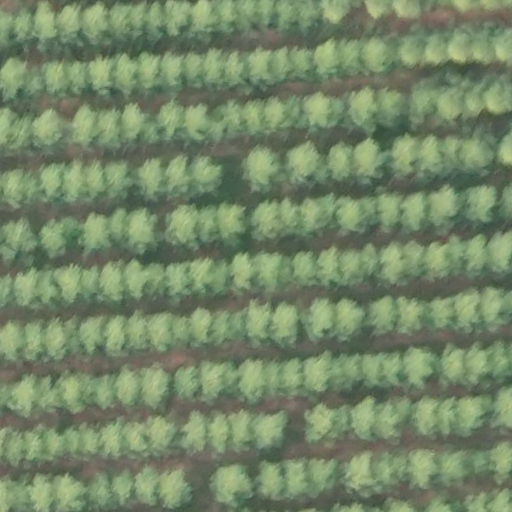eucalipto: (282, 139, 327, 188), (240, 143, 283, 191), (209, 462, 253, 507), (389, 133, 423, 183), (123, 209, 158, 257), (352, 140, 389, 183), (1, 166, 36, 211), (157, 469, 195, 509), (418, 133, 447, 185), (461, 133, 495, 177), (254, 410, 291, 450), (1, 218, 36, 260), (164, 203, 195, 250), (81, 1, 112, 47), (165, 153, 196, 198), (463, 182, 495, 225), (429, 188, 461, 231), (403, 348, 436, 389), (438, 134, 468, 179), (456, 285, 483, 335), (334, 298, 365, 341), (39, 160, 67, 207), (78, 211, 110, 252), (326, 141, 357, 183), (31, 109, 65, 147), (135, 464, 165, 507), (250, 201, 282, 241), (191, 154, 222, 195), (63, 160, 91, 205), (415, 395, 444, 438), (136, 156, 164, 200), (141, 365, 169, 409), (218, 201, 248, 242), (336, 199, 371, 234), (55, 263, 84, 305), (362, 37, 394, 75), (301, 197, 333, 235), (316, 245, 343, 290), (274, 302, 301, 347), (54, 473, 85, 512), (350, 397, 378, 440), (104, 161, 135, 199), (483, 287, 509, 332), (189, 1, 215, 45), (401, 192, 428, 234), (148, 415, 175, 457), (409, 447, 436, 489), (239, 359, 264, 404), (63, 373, 91, 413), (438, 397, 466, 437), (249, 47, 275, 90), (396, 297, 425, 335), (183, 411, 208, 455), (137, 52, 165, 91), (40, 220, 68, 259), (486, 233, 512, 275), (143, 262, 171, 301), (122, 260, 148, 302), (115, 363, 141, 405), (258, 460, 284, 502), (34, 2, 58, 47), (350, 87, 377, 127), (99, 259, 123, 304), (14, 269, 41, 309), (86, 472, 113, 512), (1, 476, 31, 512), (106, 1, 131, 44), (369, 294, 395, 335), (11, 376, 37, 417), (423, 242, 449, 282), (165, 261, 191, 301), (337, 250, 365, 287), (198, 358, 221, 403), (381, 400, 405, 443), (458, 396, 483, 437), (436, 454, 470, 484), (91, 374, 120, 409), (90, 56, 116, 95), (232, 250, 258, 289), (309, 297, 335, 336), (303, 402, 329, 441), (283, 460, 309, 499), (191, 307, 213, 353), (148, 310, 171, 354), (72, 105, 96, 147), (401, 241, 426, 281), (357, 241, 382, 281), (163, 1, 190, 38), (182, 52, 209, 89), (250, 298, 272, 343), (380, 449, 410, 482), (466, 234, 489, 277), (207, 259, 233, 297), (158, 100, 187, 134), (172, 366, 201, 400), (291, 250, 319, 285), (13, 10, 38, 49), (304, 90, 329, 129), (487, 342, 512, 381), (99, 420, 124, 459), (485, 79, 512, 115), (57, 4, 79, 48), (116, 54, 138, 98), (381, 241, 403, 285), (186, 257, 209, 299), (85, 161, 109, 201), (330, 353, 354, 393), (384, 353, 412, 387), (121, 420, 149, 454), (225, 50, 247, 93), (228, 409, 250, 452), (288, 46, 315, 81), (315, 41, 341, 77), (28, 473, 52, 512), (1, 59, 30, 91), (442, 349, 467, 386), (1, 319, 22, 363), (491, 387, 512, 431), (357, 448, 378, 492), (197, 203, 220, 243), (391, 1, 448, 17), (163, 52, 187, 90), (37, 267, 61, 305), (311, 457, 335, 495), (445, 234, 466, 277), (208, 311, 233, 347), (204, 50, 227, 89), (227, 310, 255, 342), (376, 192, 400, 229), (379, 89, 404, 124), (341, 39, 364, 77), (209, 413, 230, 454), (326, 402, 346, 445), (465, 348, 491, 381), (145, 1, 164, 46), (79, 265, 102, 302), (4, 428, 27, 465), (428, 295, 453, 329), (106, 314, 127, 354), (49, 320, 70, 360), (129, 310, 149, 351), (120, 104, 144, 138), (46, 61, 68, 98), (216, 99, 243, 129), (296, 1, 321, 33), (284, 357, 303, 399), (491, 442, 512, 480), (98, 111, 120, 147), (27, 321, 45, 365), (213, 1, 236, 35), (400, 36, 423, 70), (112, 466, 133, 503), (187, 106, 212, 137), (464, 83, 486, 118), (157, 313, 181, 345), (312, 355, 332, 393), (372, 352, 395, 385), (80, 317, 101, 353), (43, 429, 65, 463), (272, 46, 291, 85), (424, 35, 448, 65), (216, 359, 236, 395), (108, 207, 127, 244), (440, 91, 464, 120), (323, 96, 344, 129), (70, 60, 89, 96), (264, 97, 286, 128), (264, 359, 281, 399), (472, 34, 493, 66), (244, 99, 265, 131), (323, 1, 349, 25), (496, 28, 512, 67), (61, 427, 81, 458), (451, 33, 472, 62), (277, 1, 296, 33), (129, 1, 144, 41), (362, 1, 392, 21), (499, 126, 512, 172), (80, 424, 99, 455), (174, 317, 195, 345), (472, 451, 493, 477), (258, 1, 274, 30)
